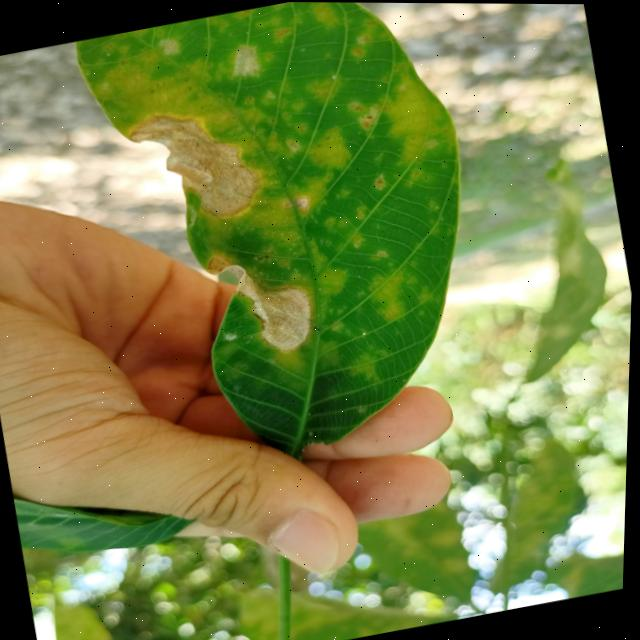Leaf-Blight: (126, 99, 267, 234), (204, 240, 322, 364)
